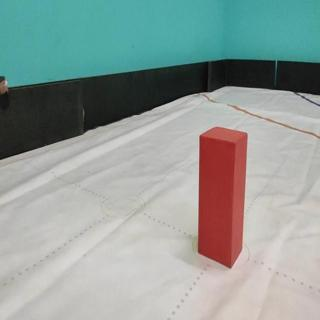redbox: (197, 126, 248, 269)
